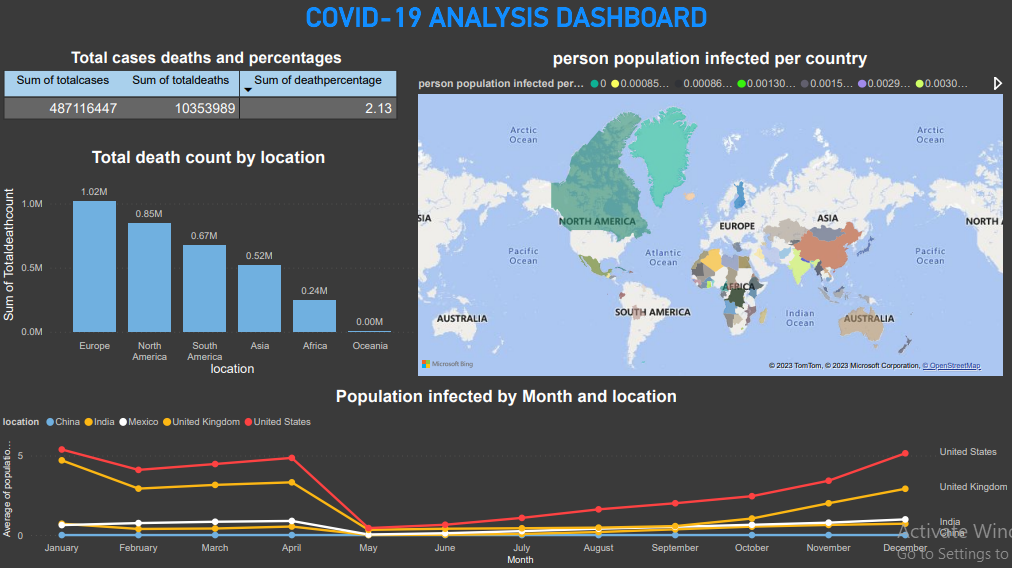

The page's visual inventory and layout, read from the dashboard file:
{"tool":"powerbi","page":{"name":"Page 1","canvas":[1280,720],"ordinal":0},"visuals":[{"type":"tableEx","title":"Total cases deaths and percentages","fields":{"Values":["Sum(Sheet1.totalcases)","Sum(Sheet1.totaldeaths)","Sum(Sheet1.deathpercentage)"]},"box":[0,64.4,523.9,111.2],"z":0},{"type":"columnChart","title":"Total death count by location","fields":{"Category":["Sheet1 (2).location"],"Y":["Sum(Sheet1 (2).Totaldeathcount)"]},"box":[0,188.6,528.6,292.9],"z":1000},{"type":"filledMap","title":"person population infected per country","fields":{"Category":["Sheet1 (3).location"],"Series":["Sheet1 (3).populationinfected"]},"box":[524.3,64.3,745.7,417.1],"z":2000},{"type":"lineChart","title":"Population infected by Month and location ","fields":{"Y":["Avg(Sheet1 (4).populationinfected)"],"Category":["Sheet1 (4).date.Variation.Date Hierarchy.Month"],"Series":["Sheet1 (4).location"]},"box":[0,491.4,1280,228.6],"z":3000},{"type":"textbox","box":[0,0,1280,64.3],"z":4000}]}

Visuals, with their boxes on the page's 1280x720 design canvas (x1, y1, x2, y2). These are canvas units, not pixel positions in the 1012x568 screenshot, which may show the page scaled, cropped or inside an application window:
"Total cases deaths and percentages" tableEx: left=0, top=64, right=524, bottom=176
"Total death count by location" columnChart: left=0, top=189, right=529, bottom=482
"person population infected per country" filledMap: left=524, top=64, right=1270, bottom=481
"Population infected by Month and location " lineChart: left=0, top=491, right=1280, bottom=720
textbox: left=0, top=0, right=1280, bottom=64
